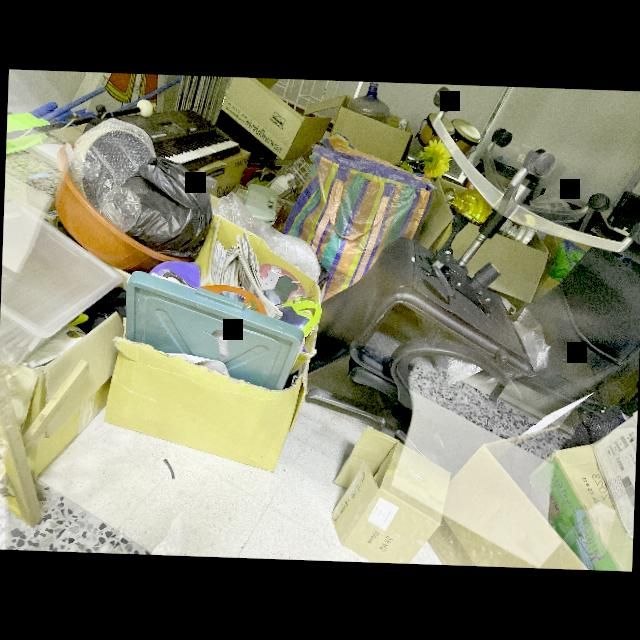cardboard_box: (438, 418, 636, 570), (101, 331, 305, 475), (326, 431, 454, 564), (210, 76, 330, 162), (319, 90, 417, 158)
